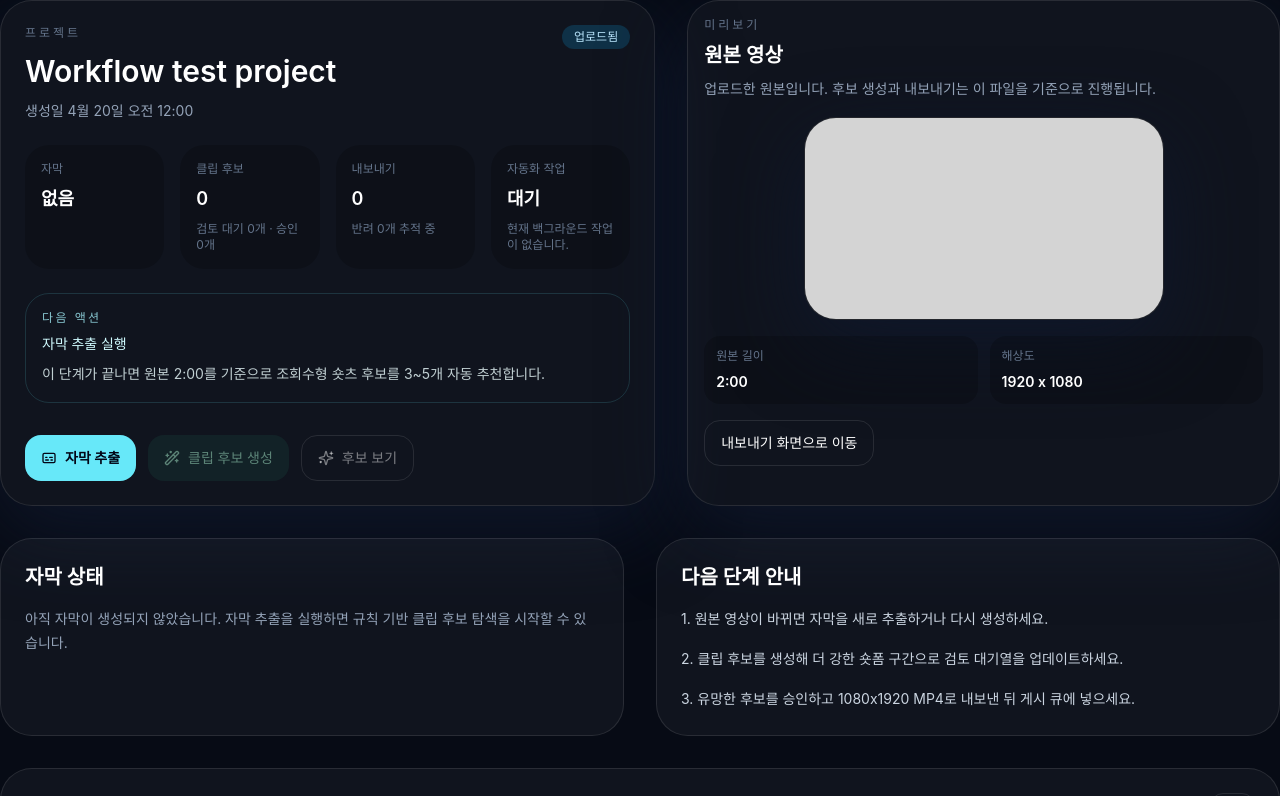
Scenario: ProjectDetailPage › 자막 추출을 대기열에 넣고 자동화 안내를 보여준다
expect the heading "Workflow test project" is shown: met, box [25, 53, 336, 89]
Click the button "자막 추출". click: (81, 458)
box: [25, 435, 136, 481]
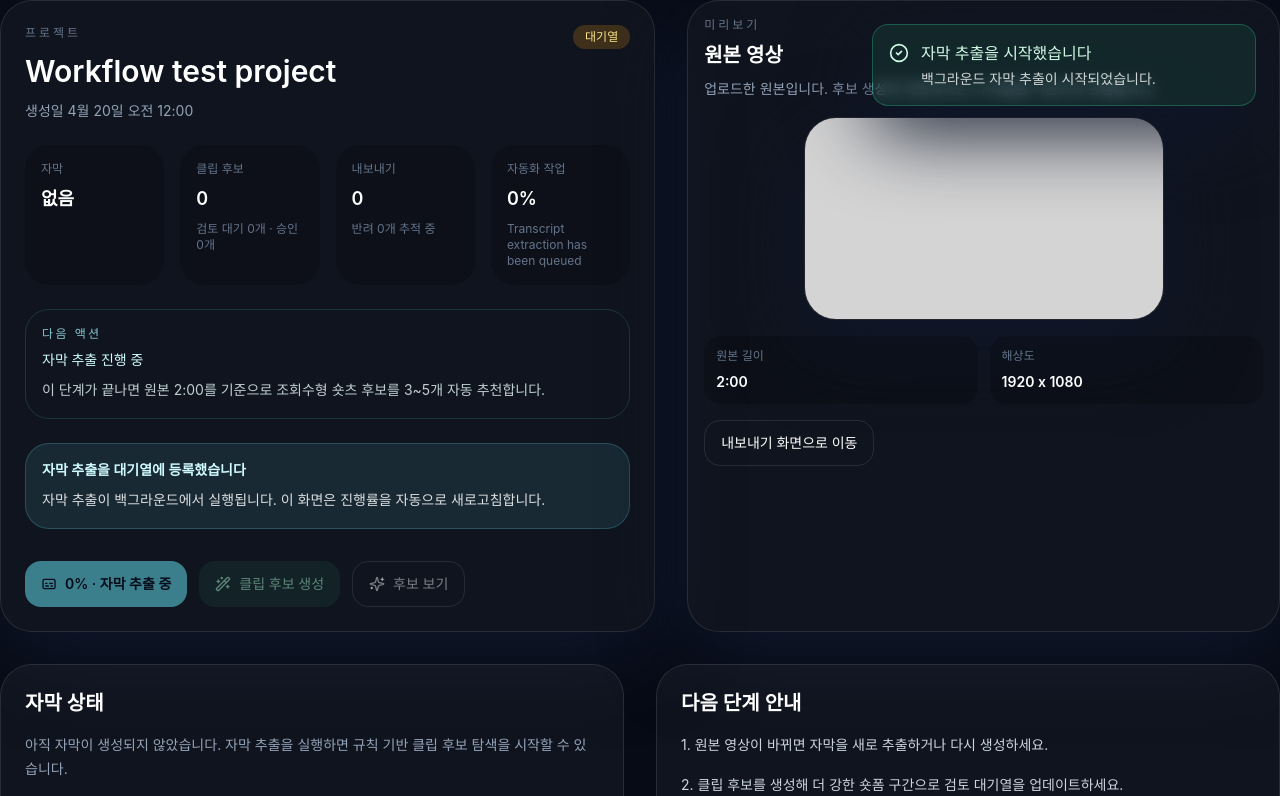
expect the text "자막 추출을 대기열에 등록했습니다" is shown: met, box [42, 461, 246, 478]
expect the text "백그라운드 자막 추출이 시작되었습니다." is shown: met, box [921, 69, 1156, 89]
